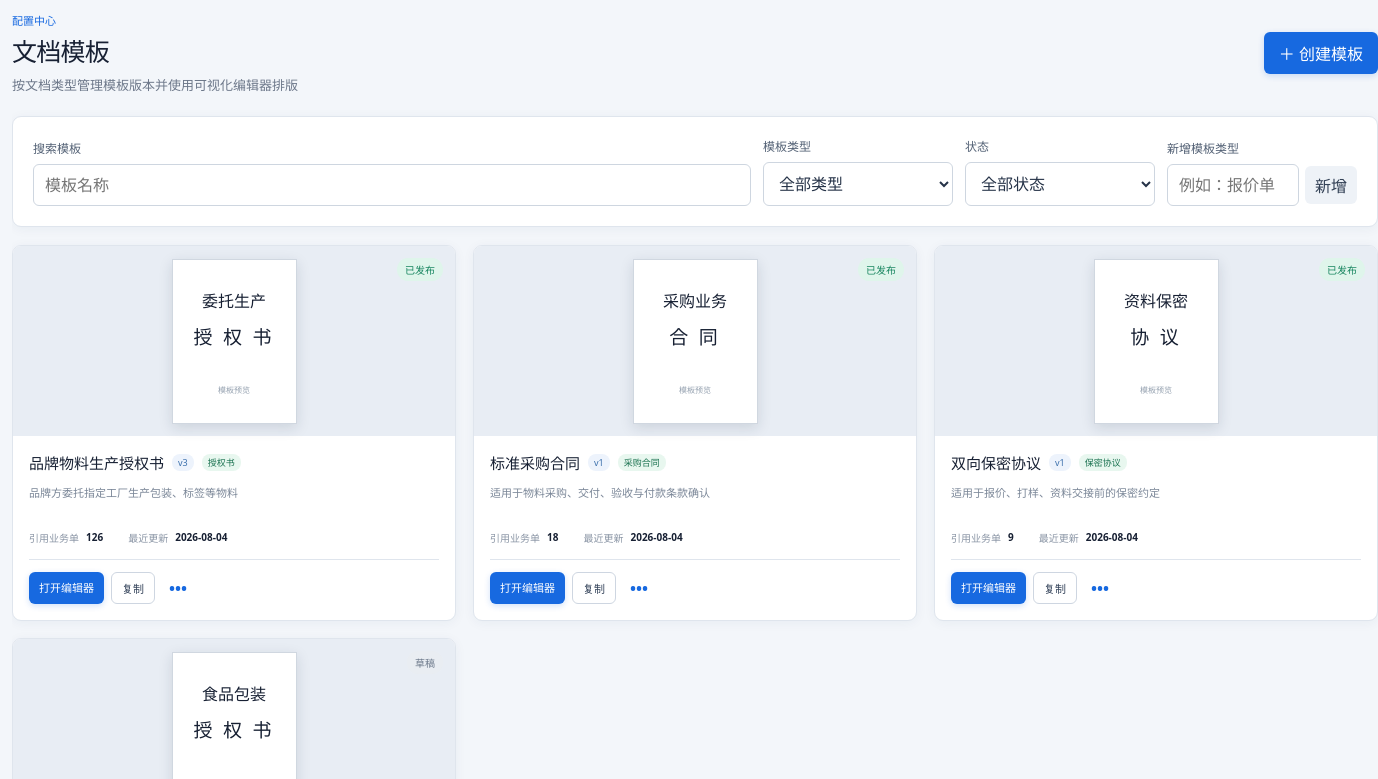
Test: 文档模板列表可新增模板类型
Type "报价单" into the field with placeholder "例如：报价单".
click(1233, 185); type("报价单")  # box [1167, 164, 1299, 206]
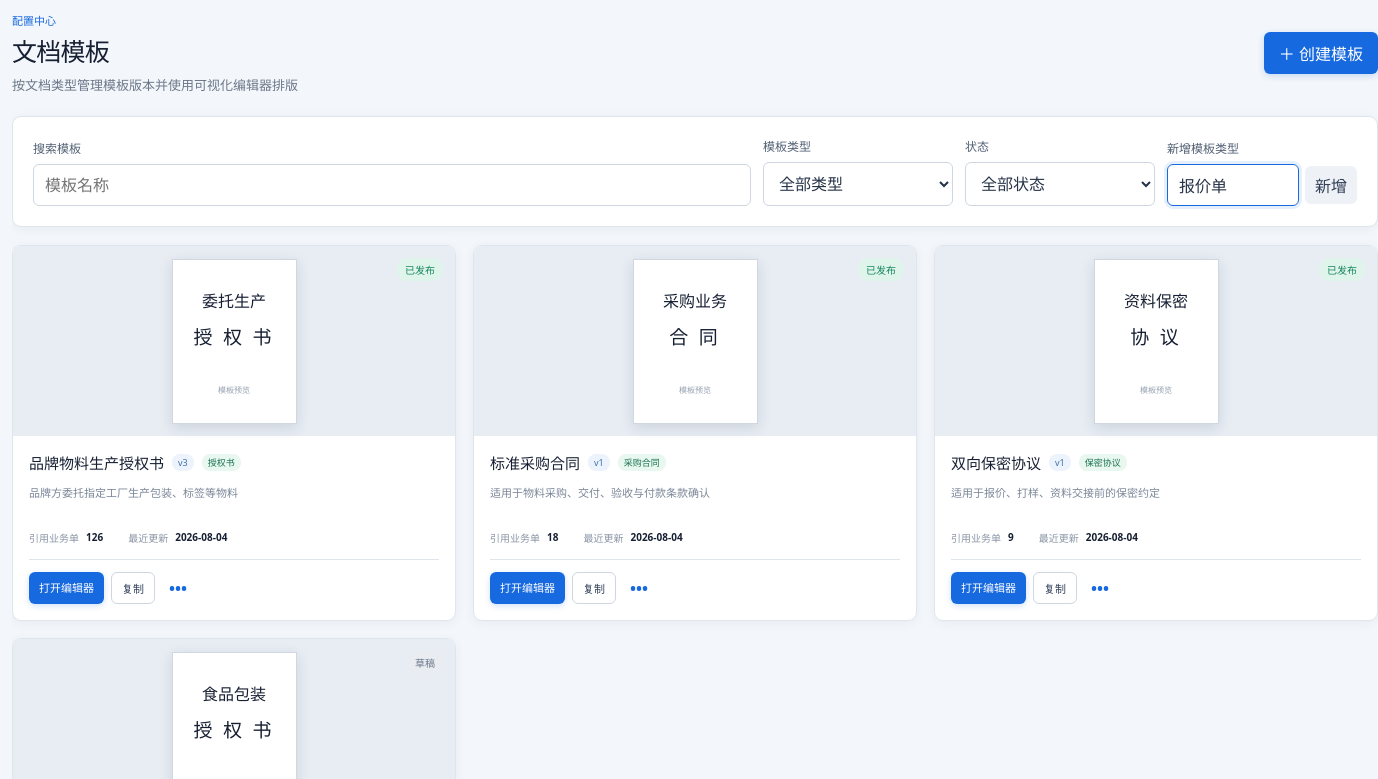
Click the button "新增".
click(1331, 185)  # box [1305, 166, 1357, 204]
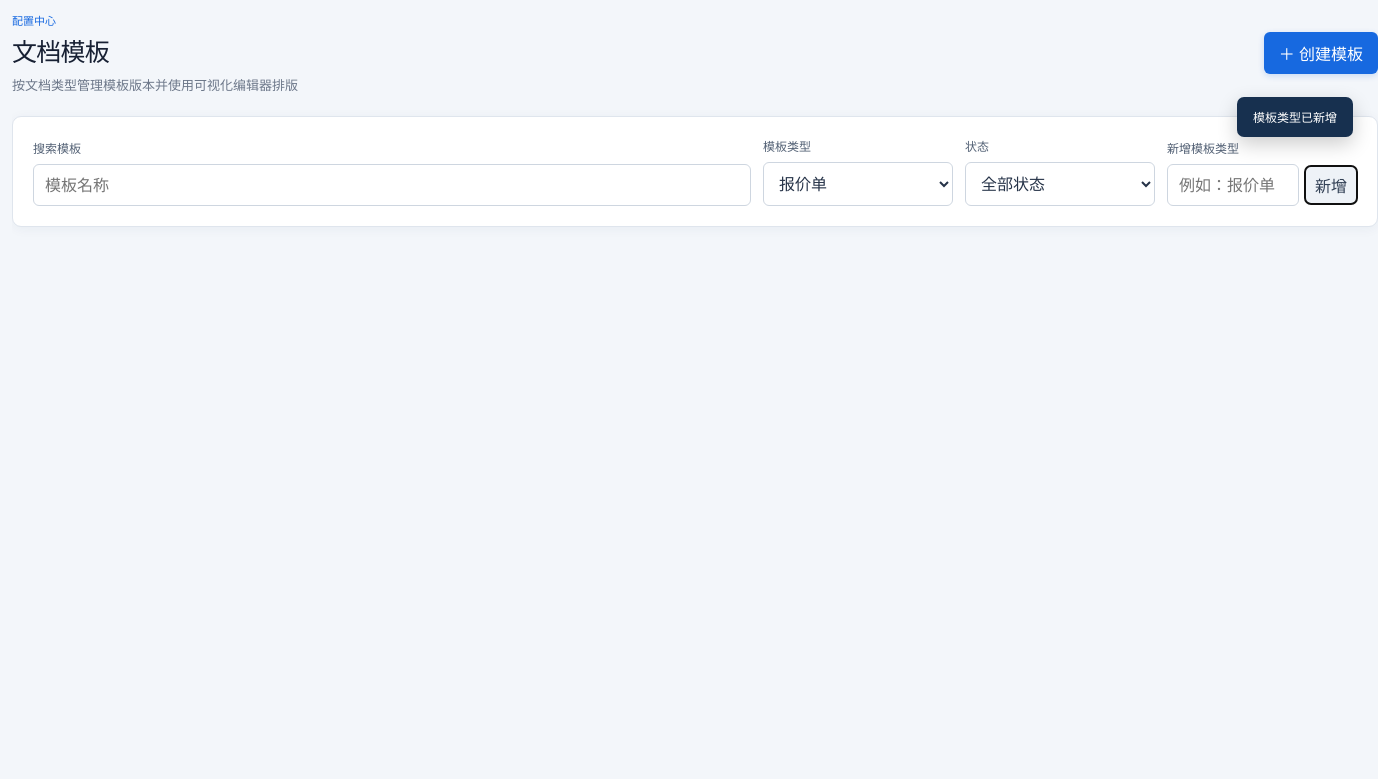
Expected: the dropdown labelled "模板类型" shows "报价单", [763, 162, 953, 206]
